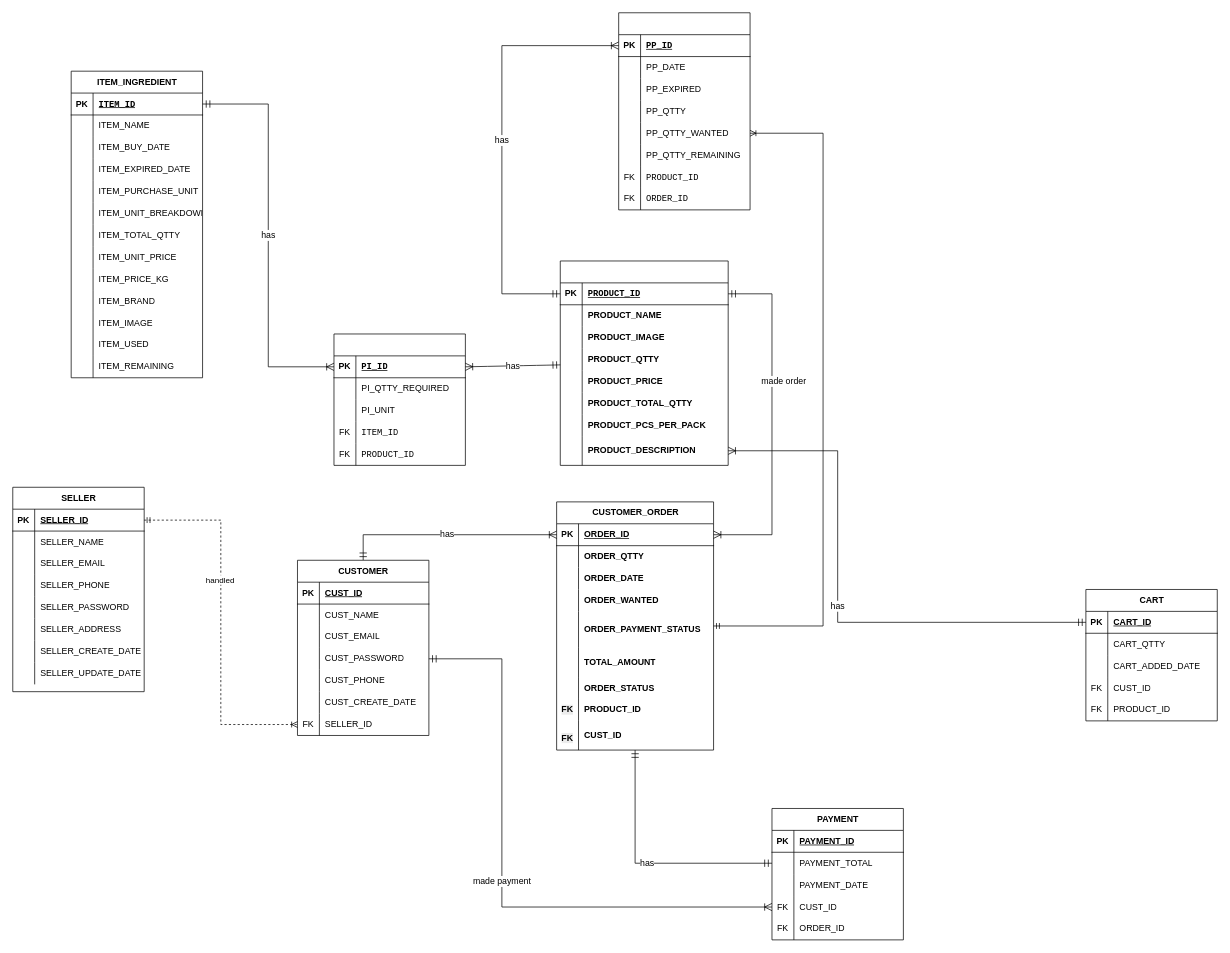
Some shapes in this 1230 by 953 pixel diagram are drawn without their labels. Here are the shapes that lost their labels. From the top down, the box of each, then its label:
(618, 12, 750, 210): PRODUCT_PRODUCE
(560, 260, 728, 465): PRODUCT_SELL
(333, 333, 465, 465): PRODUCT_INGREDIENT
